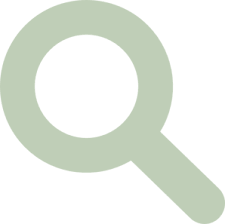searchIcon: (1, 1, 225, 224)
